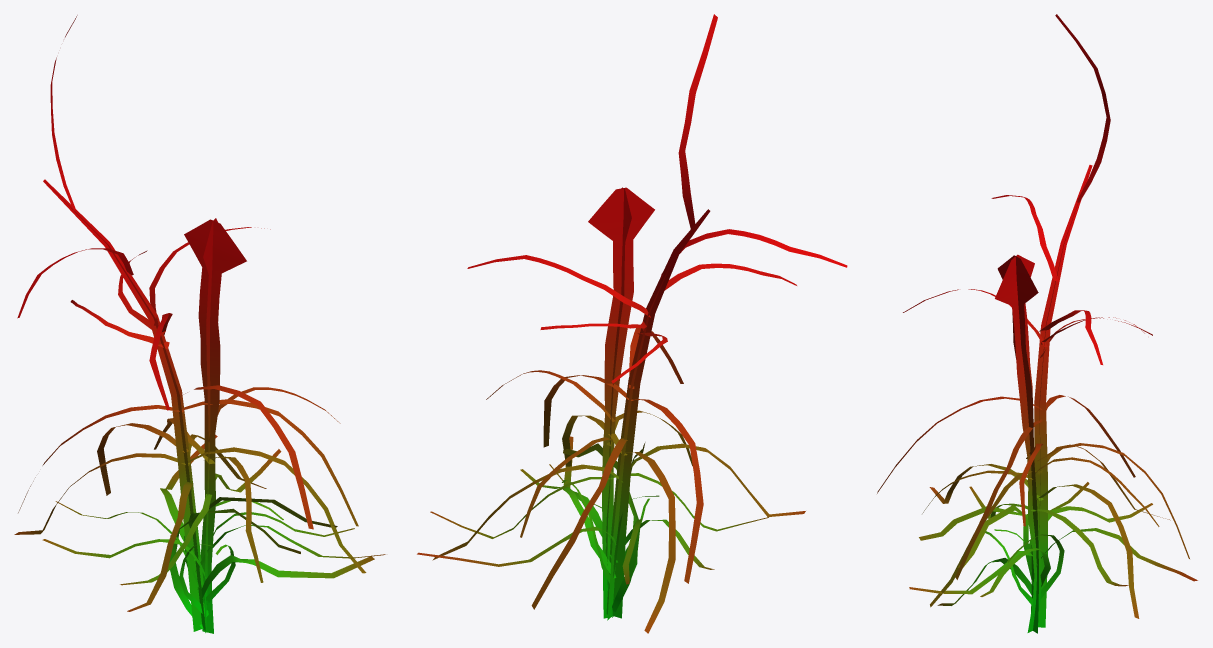
Rendered from Var6_LOD1.fbx.
3 renders of one model, left to right at view 1: azimuth 30°, elevation 25°; view 2: azimuth 150°, elevation 25°; view 3: azimuth 270°, elevation 25°, orthographic. The views are drawn at different scales.
Visible parts, largest first — view 1: _1406_Var6_LOD1; view 2: _1406_Var6_LOD1; view 3: _1406_Var6_LOD1.
Boxes of the visible parts, x1=… form: _1406_Var6_LOD1: x1=14, y1=15, x2=385, y2=633; _1406_Var6_LOD1: x1=417, y1=14, x2=847, y2=633; _1406_Var6_LOD1: x1=877, y1=14, x2=1197, y2=633.
Bounding box in the file's own units: 14.95 × 26.72 × 13.74.
